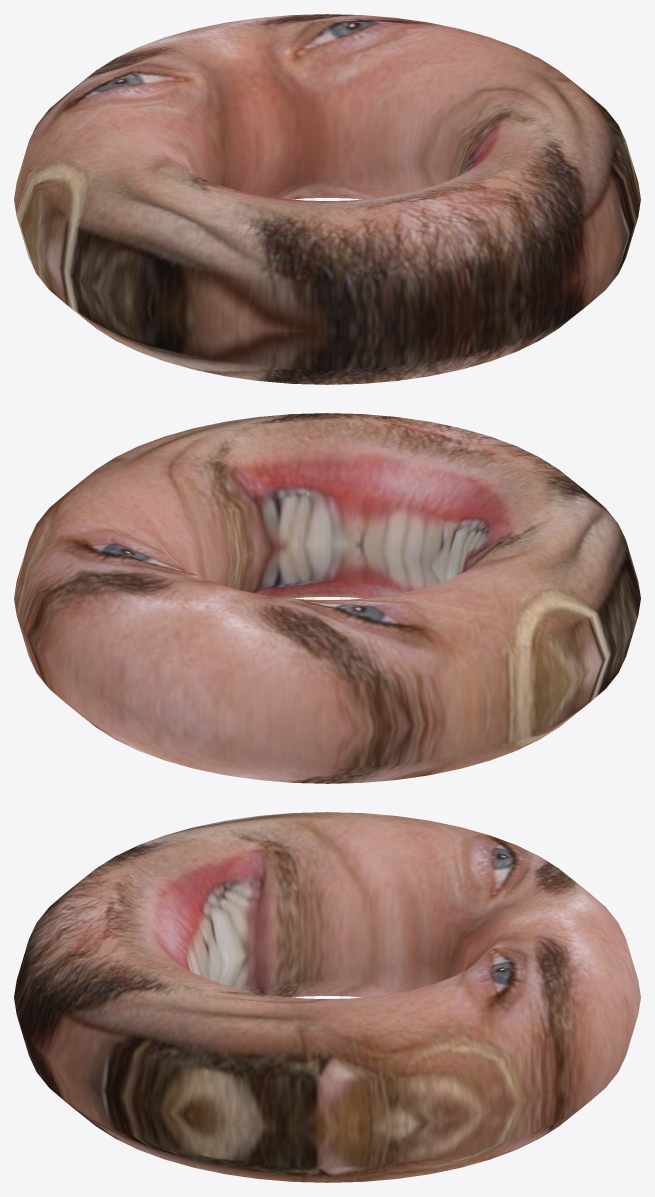
Rendered from kroeger-torus.glb.
3 renders of one model, top to bottom at view 1: azimuth 30°, elevation 25°; view 2: azimuth 150°, elevation 25°; view 3: azimuth 270°, elevation 25°, orthographic.
Parts seen in each view (by area): view 1: Torus; view 2: Torus; view 3: Torus.
Boxes of the visible parts, box(x1,y1,x2,y2) form: Torus: box(14, 14, 640, 384); Torus: box(14, 413, 640, 783); Torus: box(14, 812, 640, 1182).
Size of the model in its own units: 1.7 by 0.5 by 1.7.
1 material, 1 textured.
